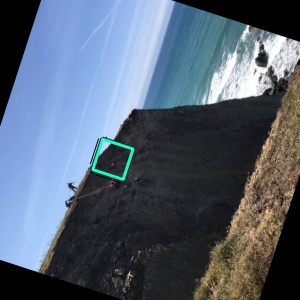square: (88, 134, 138, 184)
